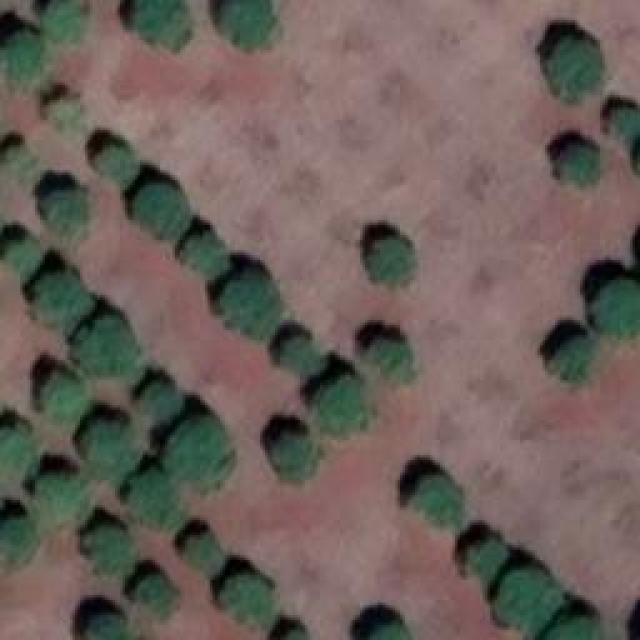Tree: (218, 275, 281, 343), (120, 463, 183, 527), (493, 568, 555, 630), (170, 420, 233, 481), (213, 0, 286, 51), (68, 320, 130, 379), (548, 33, 603, 98), (360, 233, 419, 289), (128, 0, 196, 48), (315, 375, 370, 434), (3, 28, 51, 95), (77, 520, 136, 574), (82, 418, 139, 472), (33, 268, 83, 329), (33, 470, 89, 524), (130, 568, 184, 622), (35, 176, 88, 230), (411, 468, 464, 522), (223, 573, 274, 628), (270, 427, 319, 484), (35, 378, 88, 428), (593, 280, 640, 336), (548, 333, 599, 384), (130, 375, 180, 424), (140, 183, 191, 231), (38, 0, 92, 44), (0, 418, 36, 484), (180, 530, 233, 574), (555, 140, 601, 189), (0, 510, 36, 572), (462, 532, 507, 577), (370, 333, 412, 381), (183, 237, 226, 282), (542, 608, 601, 640), (280, 327, 321, 373), (93, 143, 140, 183), (0, 230, 39, 275), (82, 607, 135, 640), (0, 135, 39, 179), (45, 98, 86, 137), (363, 610, 413, 640), (603, 100, 640, 139), (270, 622, 303, 640)
